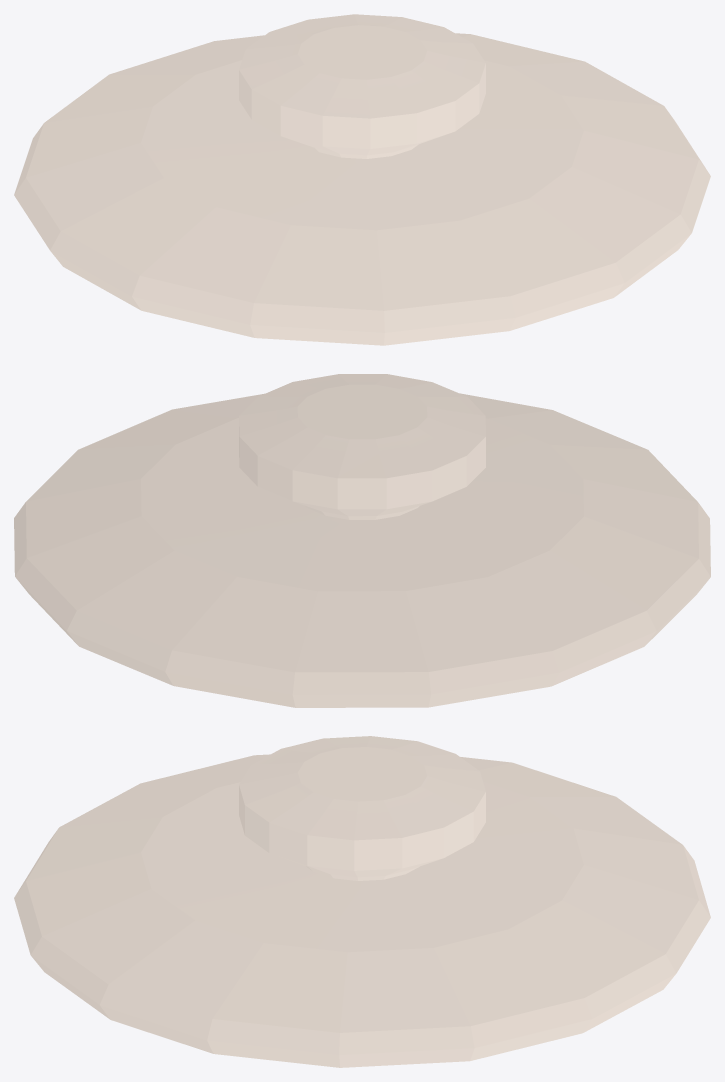
File: Kettle_5122c9ba.obj
3 renders of one model, top to bottom at view 1: azimuth 30°, elevation 25°; view 2: azimuth 150°, elevation 25°; view 3: azimuth 270°, elevation 25°, orthographic.
Parts seen in each view (by area): view 1: Kettle_5122c9ba; view 2: Kettle_5122c9ba; view 3: Kettle_5122c9ba.
Boxes of the visible parts, box(x1,y1,x2,y2) form: Kettle_5122c9ba: box(14, 14, 710, 345); Kettle_5122c9ba: box(14, 374, 710, 707); Kettle_5122c9ba: box(14, 736, 710, 1067).
Bounding box in the file's own units: 0.1108 × 0.0268 × 0.1108.
